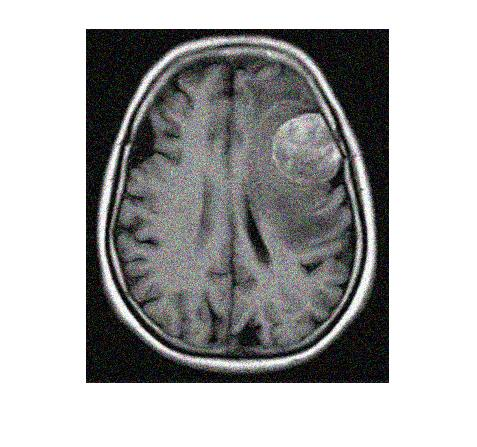Brain_Cancer: (272, 112, 341, 183)
